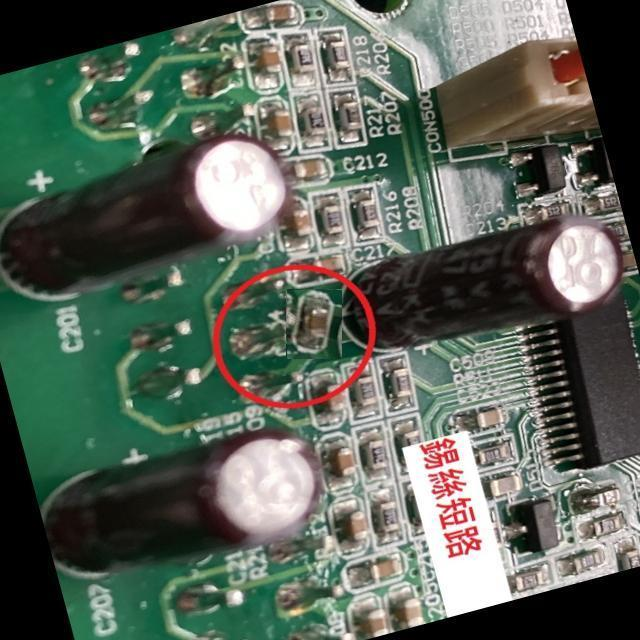damged: (286, 289, 342, 359)
